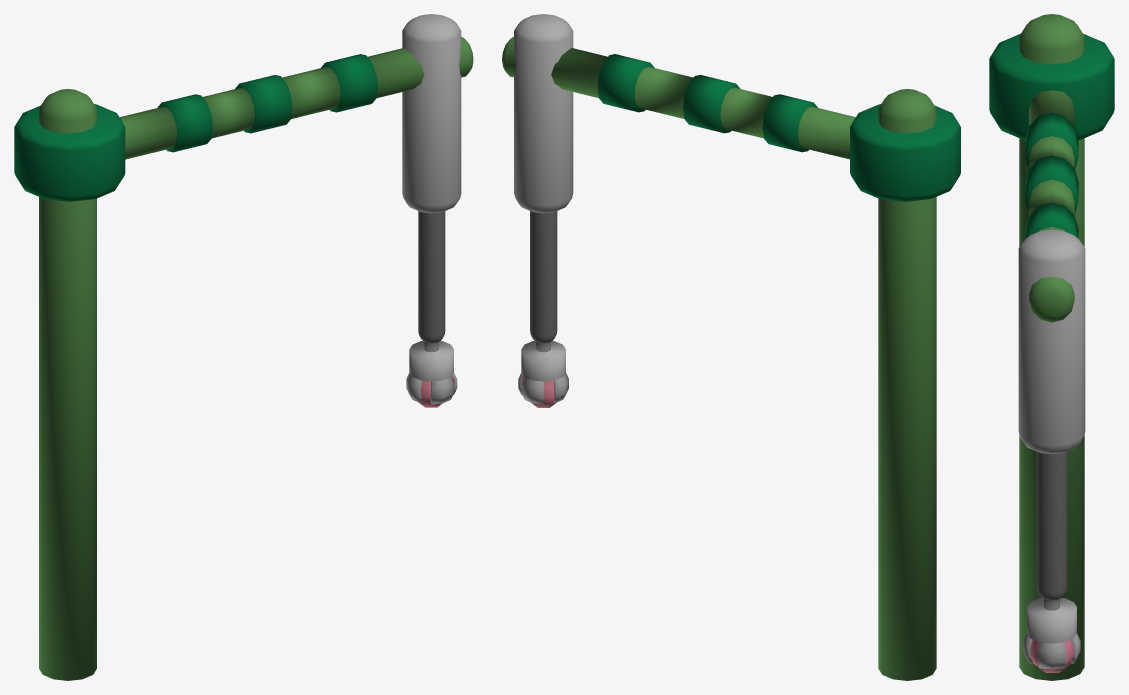
The model's file is DondurmaMakinesi.fbx.
3 renders of one model, left to right at view 1: azimuth 30°, elevation 25°; view 2: azimuth 150°, elevation 25°; view 3: azimuth 270°, elevation 25°, orthographic. The views are drawn at different scales.
Parts seen in each view (by area): view 1: Direk, ÜstDirek, ÜstKol, AltKol, Makine; view 2: Direk, ÜstDirek, ÜstKol, AltKol, Makine; view 3: Direk, ÜstKol, ÜstDirek, AltKol, Makine, Dondurma.
Part boxes in pixels (left/top/right/bottom): Direk: left=14, top=89, right=125, bottom=680; ÜstDirek: left=120, top=37, right=473, bottom=159; ÜstKol: left=402, top=14, right=461, bottom=213; AltKol: left=418, top=211, right=445, bottom=343; Makine: left=406, top=341, right=457, bottom=404; Direk: left=850, top=89, right=960, bottom=680; ÜstDirek: left=502, top=37, right=855, bottom=159; ÜstKol: left=514, top=14, right=573, bottom=213; AltKol: left=530, top=211, right=557, bottom=343; Makine: left=518, top=341, right=568, bottom=404; Direk: left=989, top=14, right=1114, bottom=680; ÜstKol: left=1018, top=229, right=1085, bottom=454; ÜstDirek: left=1025, top=90, right=1078, bottom=322; AltKol: left=1036, top=452, right=1067, bottom=600; Makine: left=1023, top=598, right=1080, bottom=669; Dondurma: left=1030, top=640, right=1073, bottom=672.
Bounding box in the file's own units: 351 × 431 × 75.61.
